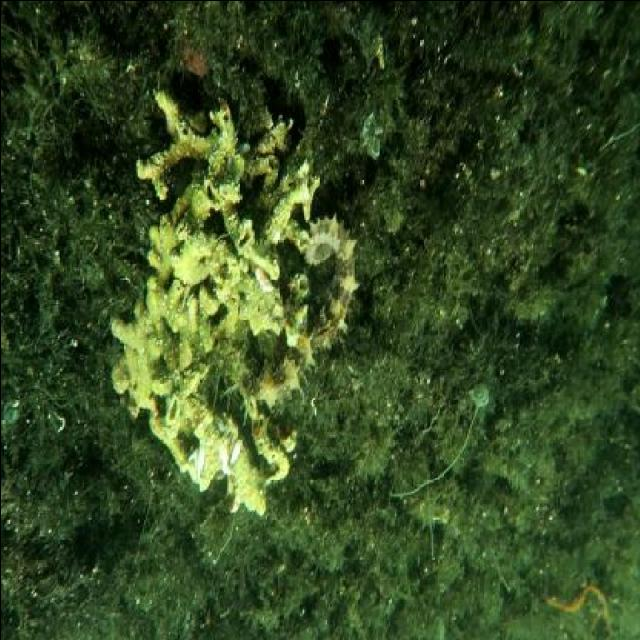Guttu: (234, 323, 296, 412)
